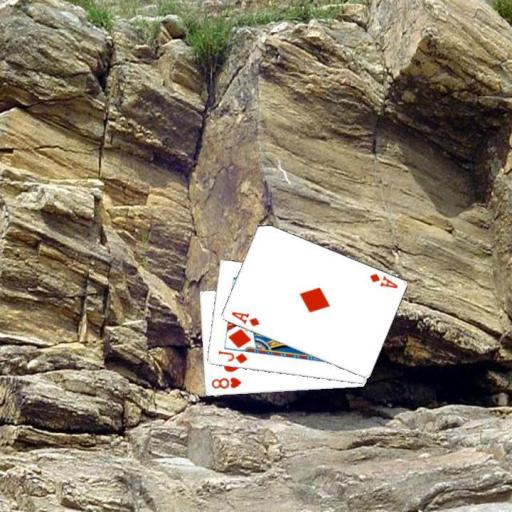8H: (209, 374, 243, 390)
AD: (366, 270, 399, 290), (228, 309, 261, 328)
JD: (215, 347, 249, 366)
